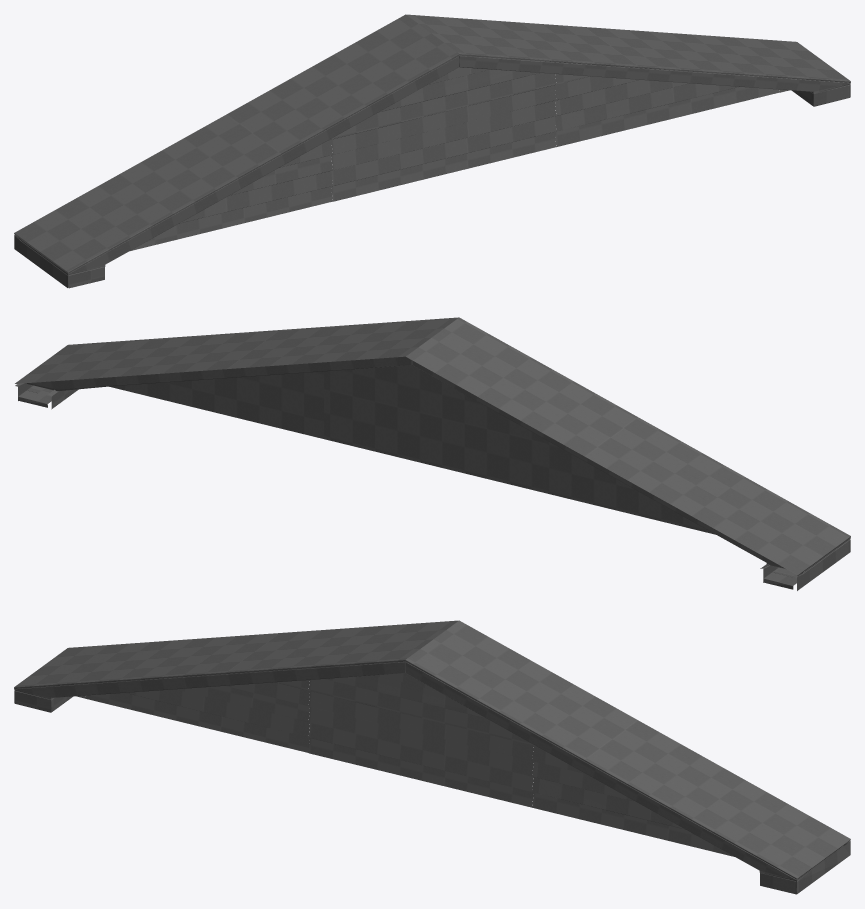
File: SM_House_Roof_B_End.glb
3 views of the same model, one above another, from view 1: azimuth 30°, elevation 25°; view 2: azimuth 150°, elevation 25°; view 3: azimuth 330°, elevation 25° (orthographic).
Visible parts, largest first — view 1: SM_House_Roof_B_End; view 2: SM_House_Roof_B_End; view 3: SM_House_Roof_B_End.
Part boxes in pixels (left/top/right/bottom): SM_House_Roof_B_End: left=14, top=14, right=850, bottom=288; SM_House_Roof_B_End: left=15, top=317, right=850, bottom=590; SM_House_Roof_B_End: left=14, top=620, right=850, bottom=894.
Bounding box in the file's own units: 1051 × 179 × 125.
Materials: 1 (1 with a texture image).
